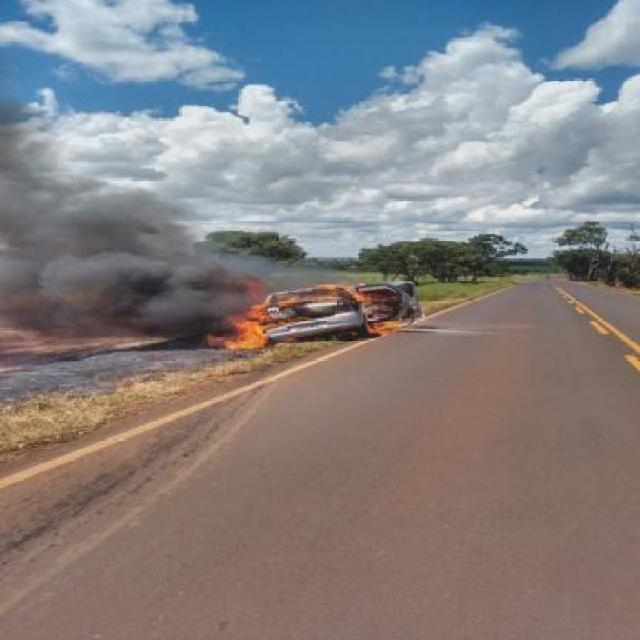Fire: (220, 274, 383, 360)
Smoke: (0, 190, 217, 341)
